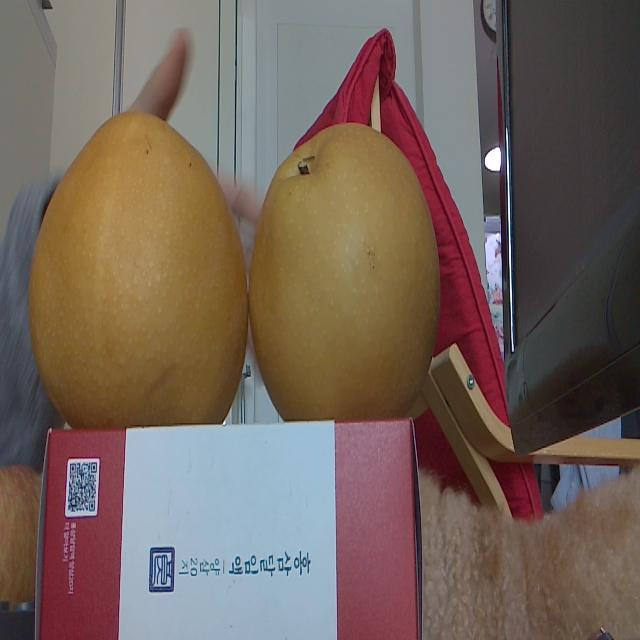pear: (32, 106, 248, 431), (250, 120, 446, 424)
